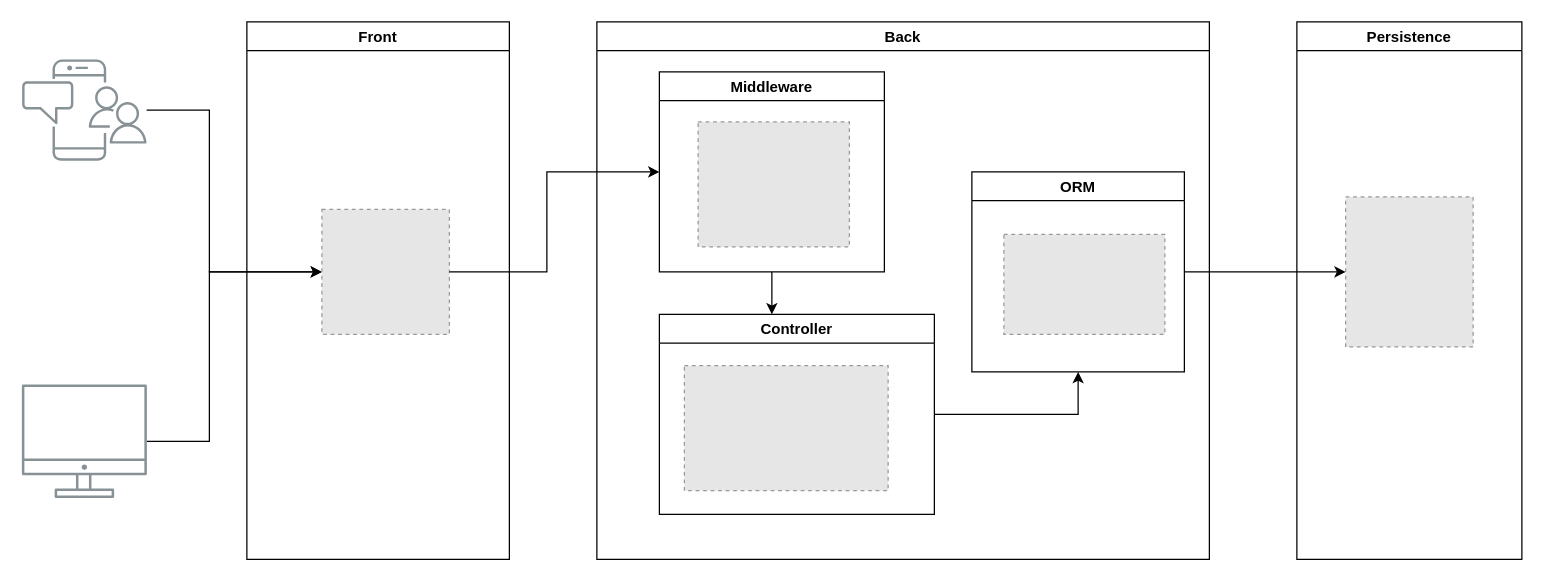
The diagram is 1544 pixels wide and 581 high, and some of its shapes have lost their labels. Grey dashed boxes stand in for pictures. The shapes that lost their labels are listed below. From the top down, each one's centre as x and y in pixels, then its label:
At (x=83, y=109): "Mobile Client".
At (x=83, y=441): "Web Client".
